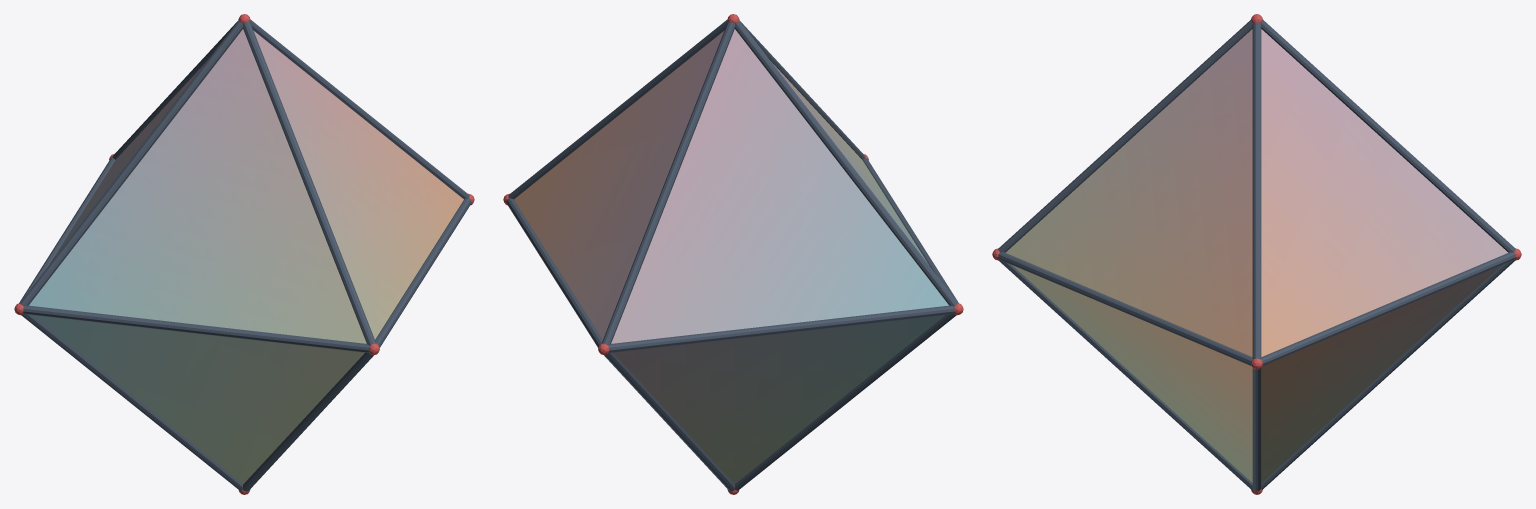
The model's file is batdien.glb.
The picture shows the model from 3 angles, left to right: view 1: azimuth 30°, elevation 25°; view 2: azimuth 150°, elevation 25°; view 3: azimuth 270°, elevation 25°; orthographic projection.
Parts seen in each view (by area): view 1: world; view 2: world; view 3: world.
Part boxes in pixels (<box>): world: <box>14,14,474,494</box>; world: <box>503,14,963,494</box>; world: <box>992,14,1521,494</box>.
Size of the model in its own units: 0.942 by 0.942 by 0.942.
